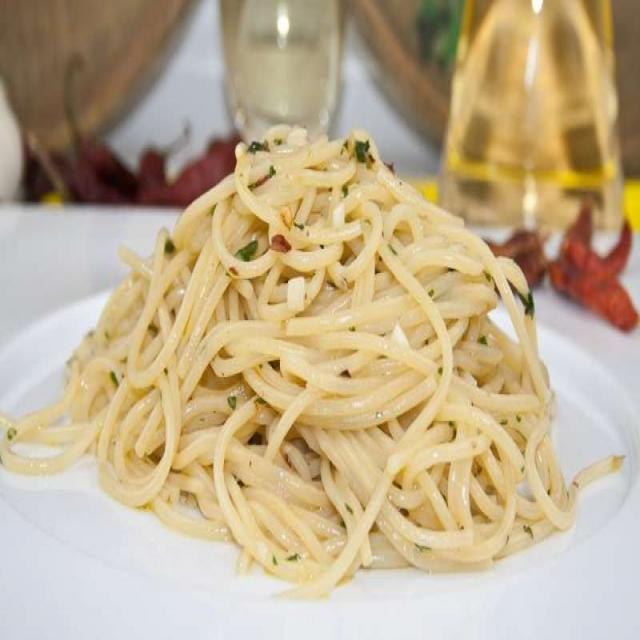Oil pasta: (63, 80, 592, 599)
